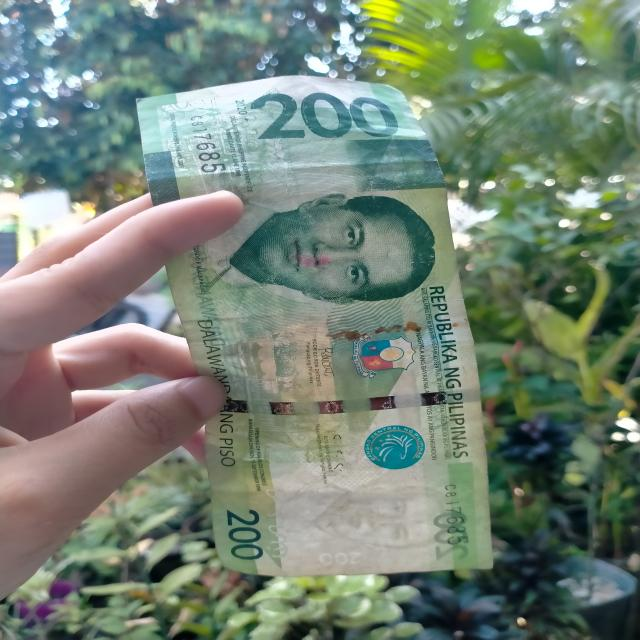concealed_value: (348, 138, 447, 190)
security_thread: (218, 390, 480, 415)
see_through_mark: (256, 475, 289, 573)
serial_number: (430, 472, 475, 554), (188, 112, 229, 174)
value: (243, 89, 404, 141)
value_watermark: (308, 550, 369, 568)
watermark: (276, 465, 452, 554)
